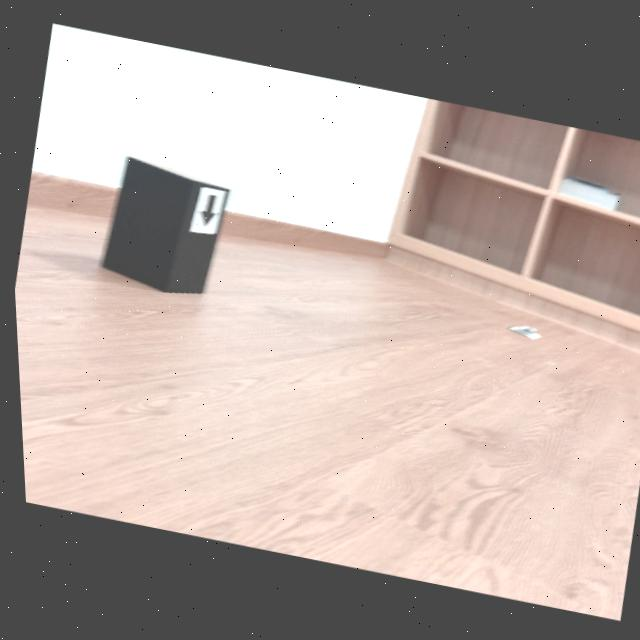DOWN: (196, 194, 214, 226)
